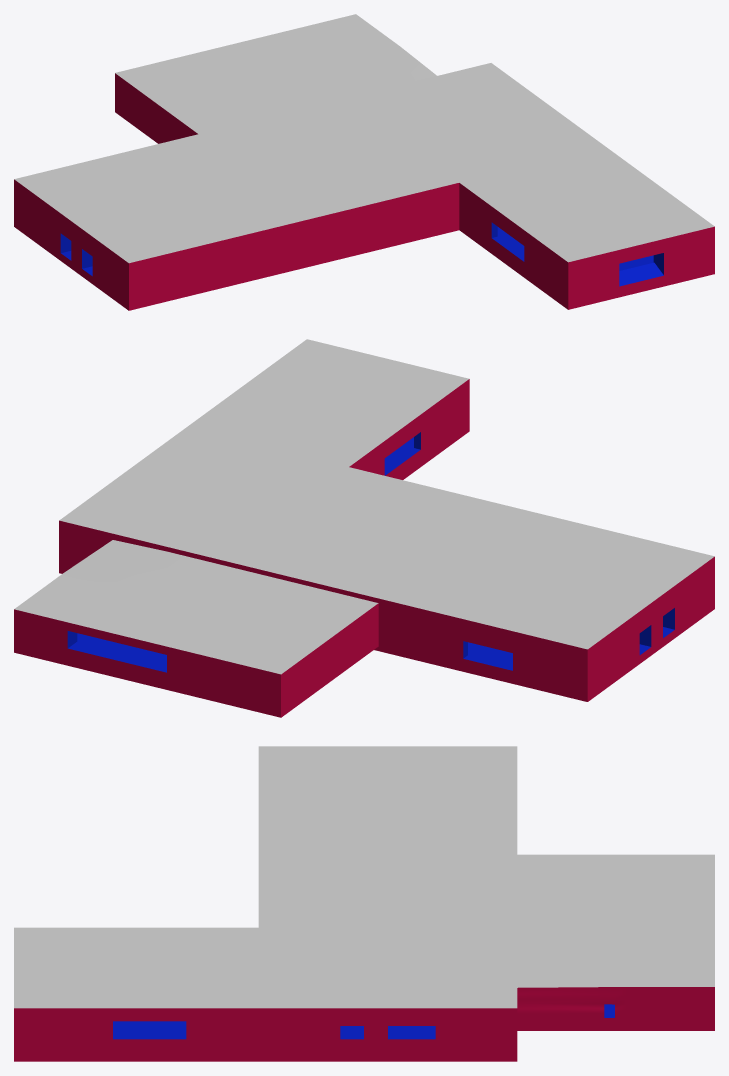
Rendered from house1.fbx.
3 views of the same model, one above another, from view 1: azimuth 30°, elevation 25°; view 2: azimuth 150°, elevation 25°; view 3: azimuth 270°, elevation 25° (orthographic). The views are drawn at different scales.
Visible parts, largest first — view 1: Cube_1; view 2: Cube_1; view 3: Cube_1.
Boxes of the visible parts, bbox=[...] form: Cube_1: bbox=[14, 14, 714, 310]; Cube_1: bbox=[14, 339, 714, 717]; Cube_1: bbox=[14, 746, 714, 1061].
Size of the model in its own units: 6241 by 594 by 7061.
